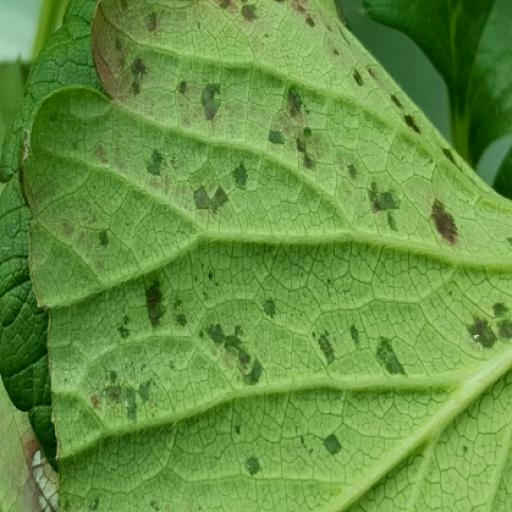Angular Leafspot: (0, 0, 494, 511), (455, 376, 511, 511)
